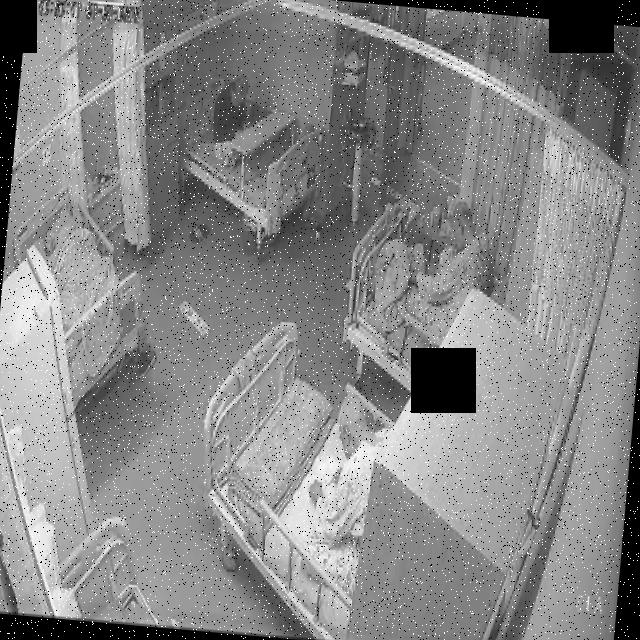bed: (185, 317, 407, 640), (0, 183, 157, 410), (341, 203, 488, 397), (170, 70, 325, 240)
patient: (310, 392, 396, 604), (402, 195, 495, 354), (209, 74, 257, 171)
sit: (360, 194, 494, 352), (304, 391, 396, 606), (209, 74, 258, 172)
